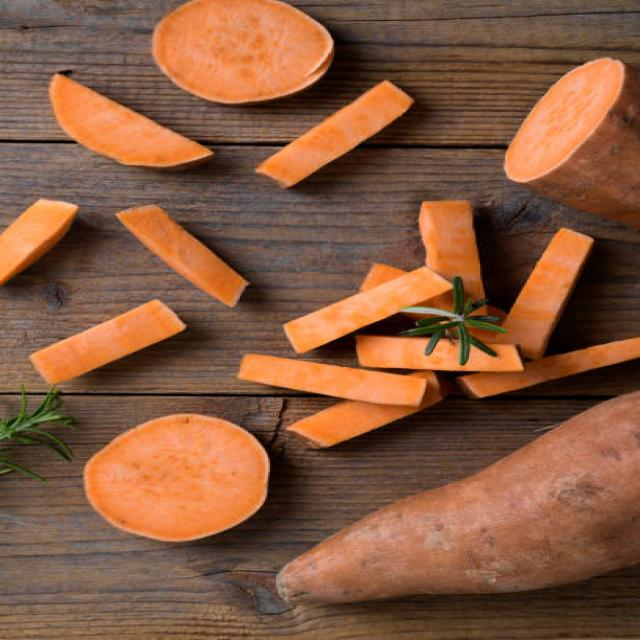Sweet Potato: (279, 459, 640, 602), (79, 416, 269, 543), (504, 53, 640, 220), (150, 0, 333, 103)
